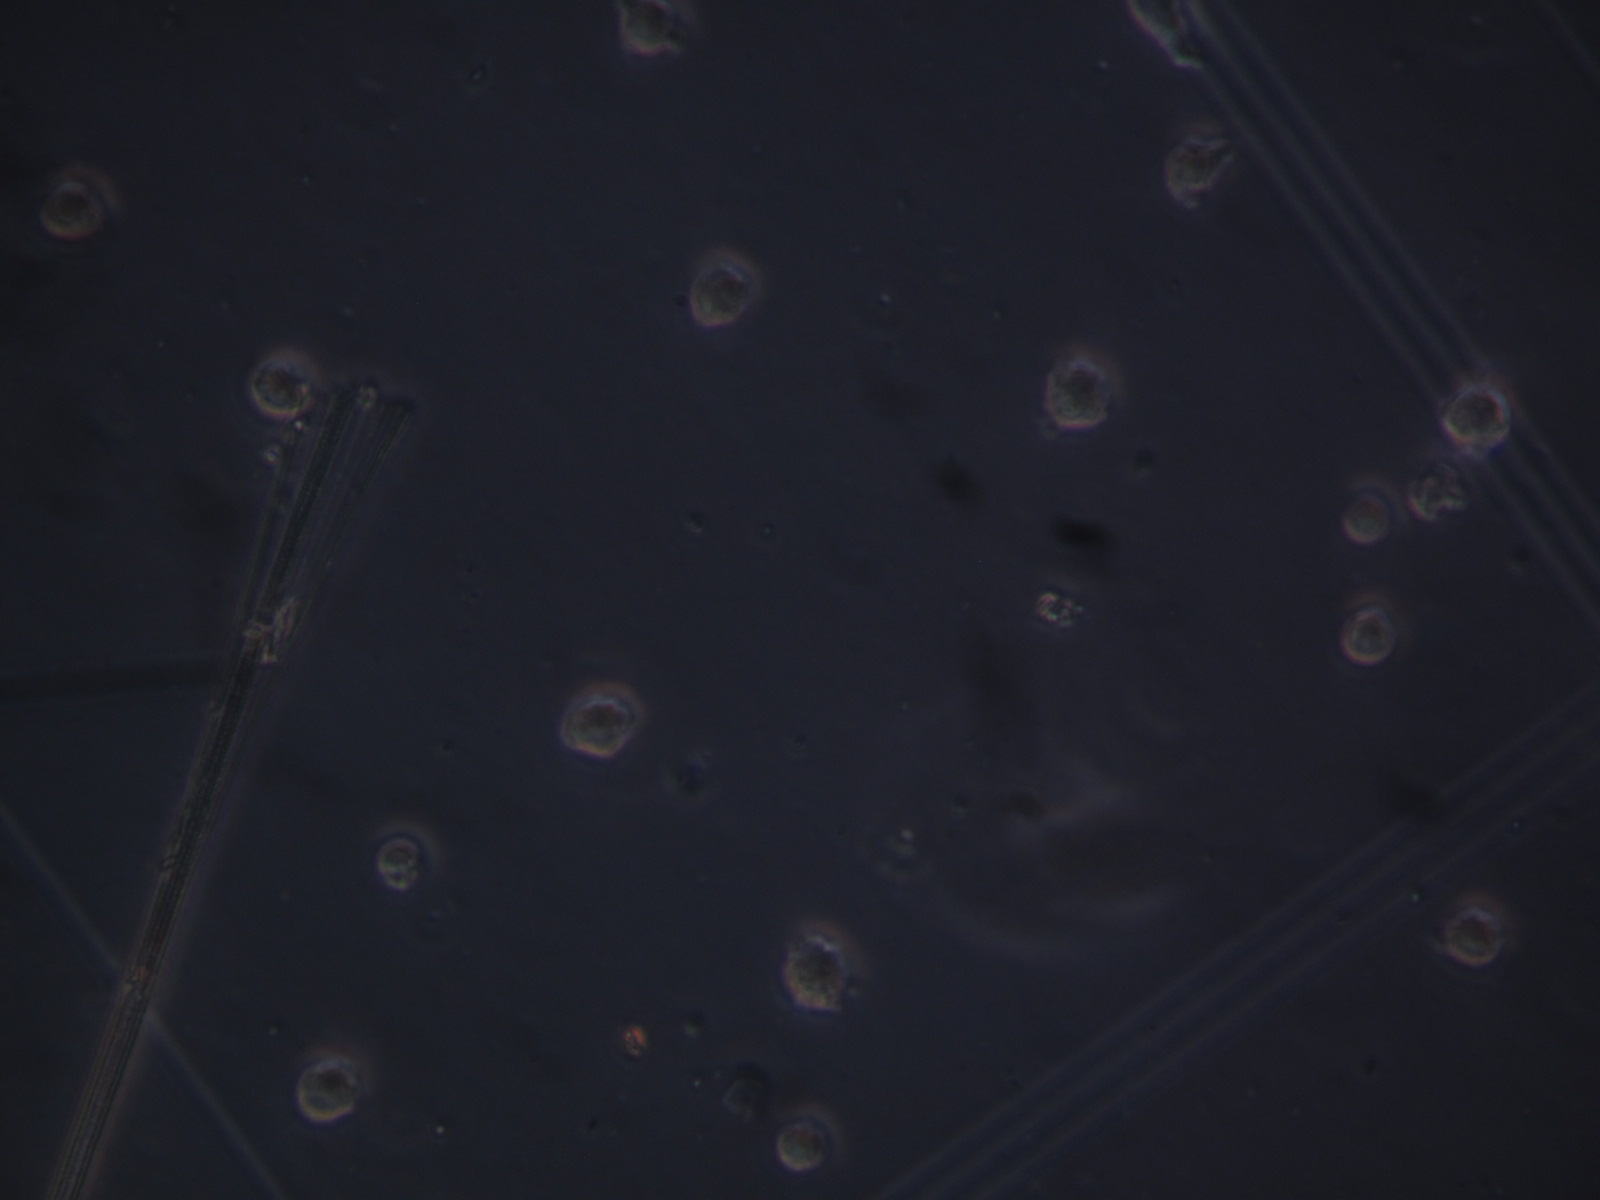hemo: (37, 158, 112, 243), (564, 679, 646, 758), (777, 932, 849, 1011), (690, 247, 762, 325), (1044, 352, 1114, 429), (368, 819, 442, 889), (776, 1100, 847, 1168), (615, 1, 695, 61), (294, 1053, 362, 1122), (1443, 379, 1513, 446), (249, 348, 320, 412), (1339, 475, 1403, 545), (1162, 137, 1235, 192), (1340, 603, 1403, 664), (1444, 905, 1503, 964)
